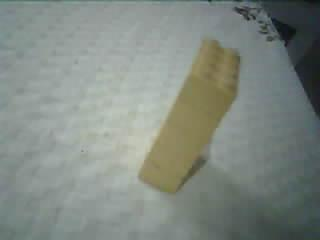lego: (136, 35, 242, 196)
